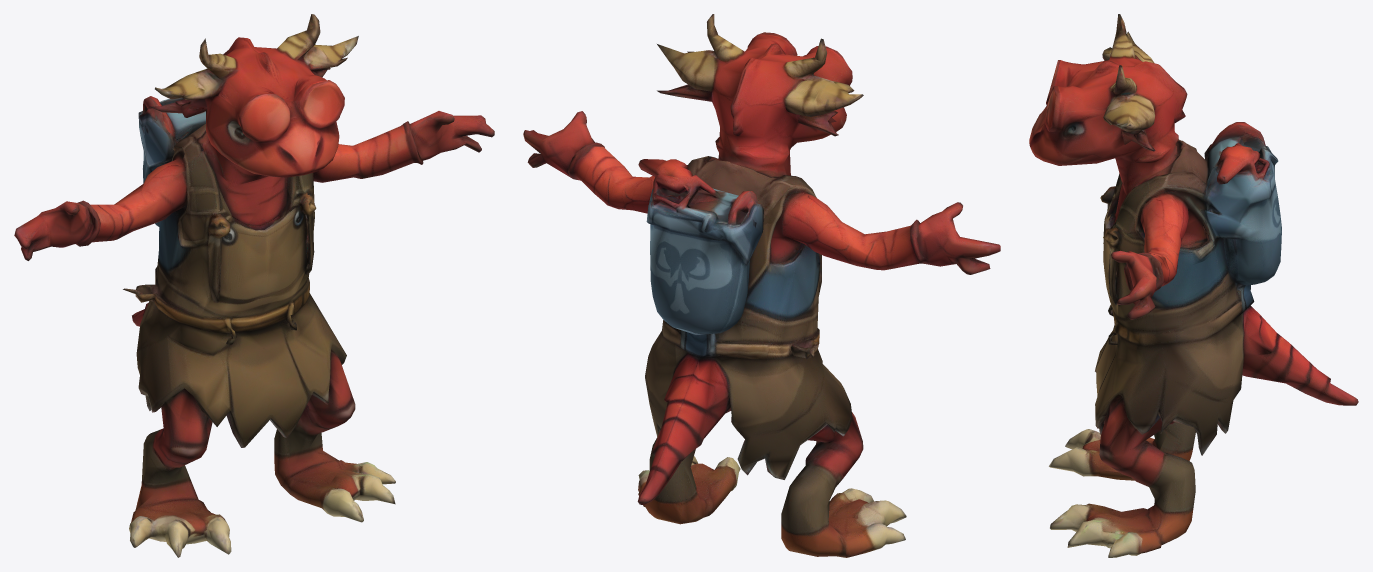
Rendered from kobold.glb.
The picture shows the model from 3 angles, left to right: view 1: azimuth 30°, elevation 25°; view 2: azimuth 150°, elevation 25°; view 3: azimuth 270°, elevation 25°; orthographic projection. The views are drawn at different scales.
Bounding box in the file's own units: 2 × 2 × 1.28.
Materials: 1 (1 with a texture image).
